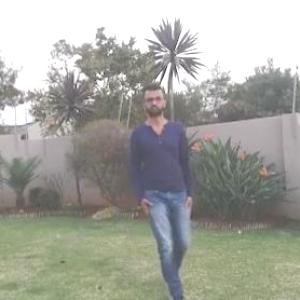follow: (140, 95, 196, 285)
